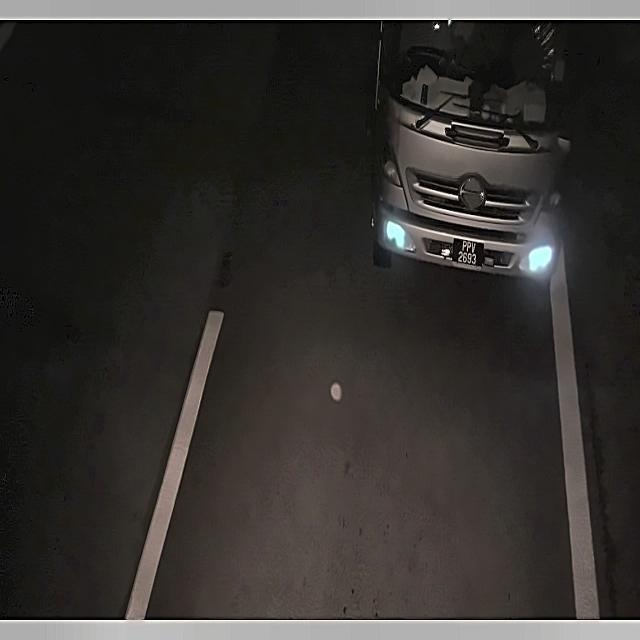car: (449, 230, 488, 275)
